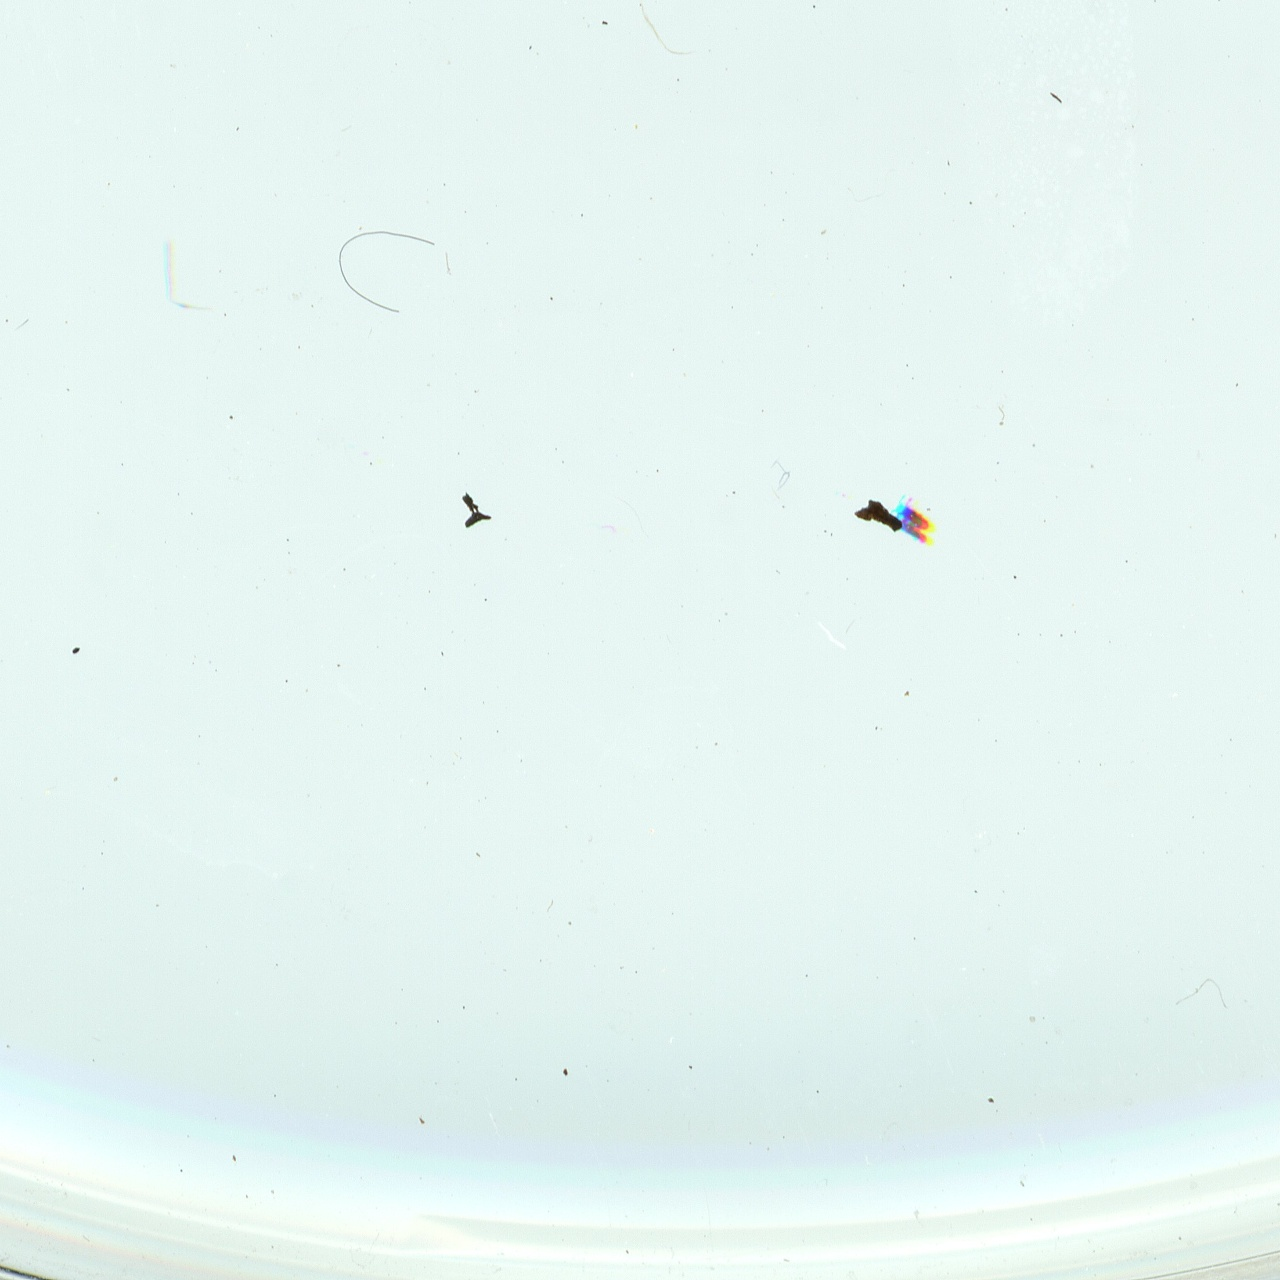arthropod: (886, 489, 947, 540)
